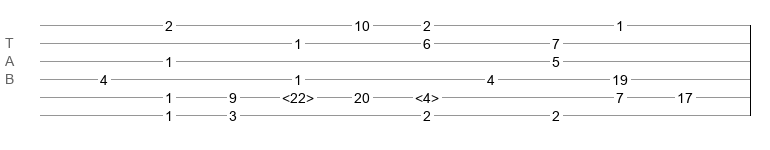1: (165, 90, 173, 100), (165, 54, 173, 64), (165, 108, 173, 118), (294, 36, 302, 46), (294, 72, 302, 82), (616, 18, 624, 28)
10: (354, 18, 370, 28)
17: (677, 90, 693, 100)
19: (612, 72, 628, 82)
2: (165, 18, 173, 28), (423, 108, 431, 118), (423, 18, 431, 28), (552, 108, 560, 118)
20: (354, 90, 370, 100)
3: (229, 108, 237, 118)
4: (100, 72, 108, 82), (487, 72, 495, 82)
5: (552, 54, 560, 64)
6: (423, 36, 431, 46)
7: (552, 36, 560, 46), (616, 90, 624, 100)
9: (229, 90, 237, 100)
harmonic: (282, 90, 314, 100), (415, 90, 439, 100)
